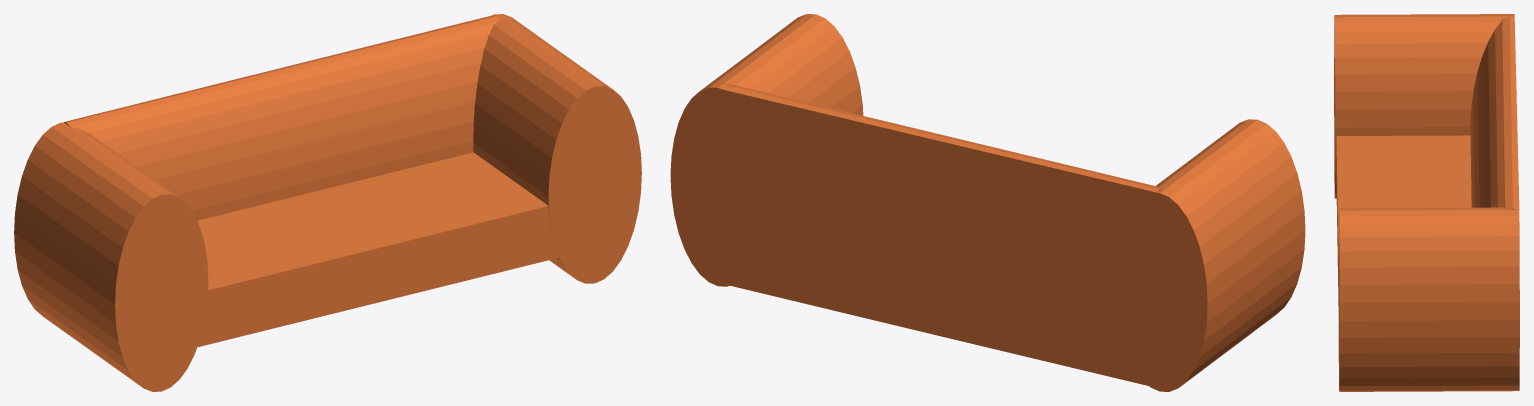
File: bank.glb
The picture shows the model from 3 angles, left to right: view 1: azimuth 30°, elevation 25°; view 2: azimuth 150°, elevation 25°; view 3: azimuth 270°, elevation 25°; orthographic projection. The views are drawn at different scales.
Visible parts, largest first — view 1: Cylinder.002, Cube.005, Cylinder.001, Cylinder; view 2: Cylinder.002, Cylinder.001, Cylinder; view 3: Cylinder, Cylinder.001, Cube.005, Cylinder.002.
Boxes of the visible parts, bbox=[...] form: Cylinder.002: bbox=[64, 15, 499, 220]; Cube.005: bbox=[197, 152, 559, 347]; Cylinder.001: bbox=[14, 122, 208, 391]; Cylinder: bbox=[473, 14, 641, 283]; Cylinder.002: bbox=[718, 83, 1162, 385]; Cylinder.001: bbox=[1112, 119, 1305, 391]; Cylinder: bbox=[670, 14, 863, 286]; Cylinder: bbox=[1338, 207, 1519, 391]; Cylinder.001: bbox=[1334, 14, 1514, 198]; Cube.005: bbox=[1336, 135, 1471, 306]; Cylinder.002: bbox=[1470, 17, 1519, 209].
Size of the model in its own units: 6.39 by 2.28 by 2.13.
